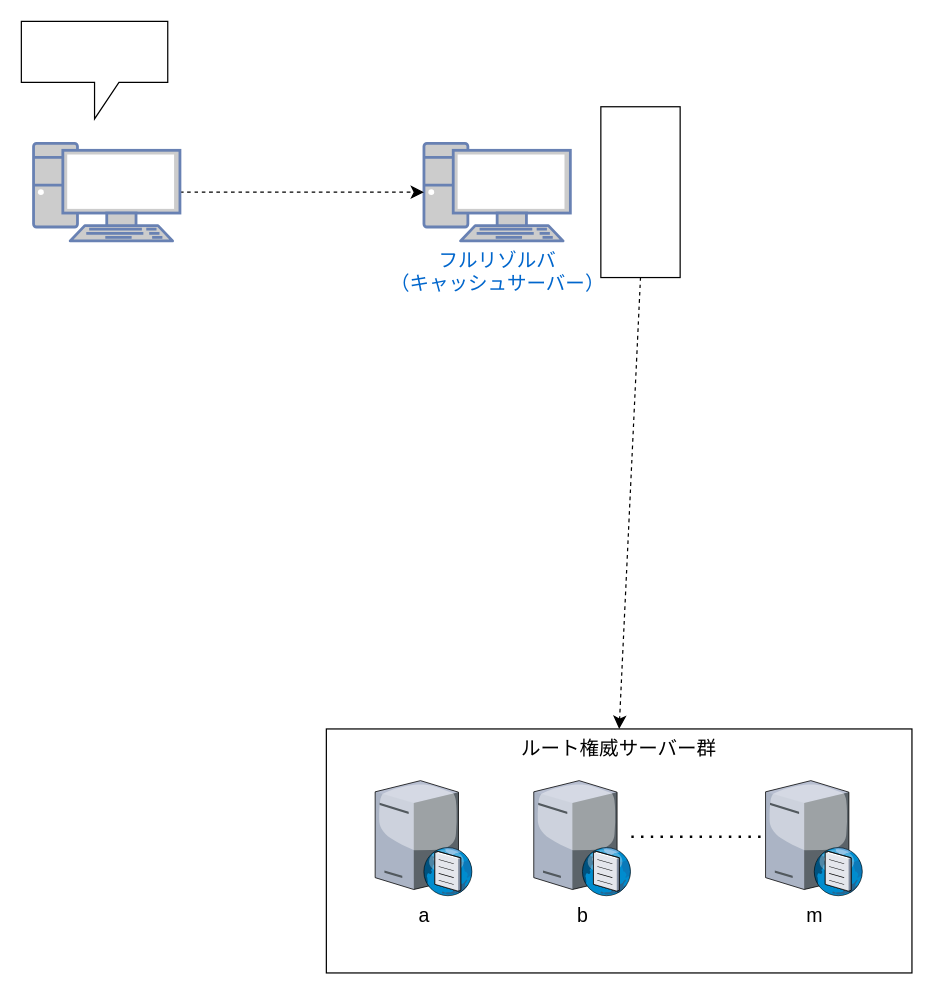
This 933x994 diagram has some shape labels left out. The shapes that lost their labels are listed below. From the top down, each one's centre as x and y in pixels, then its label:
At point 106,192: "スタブリゾルバ".
At point 640,192: "ルート ヒント".
